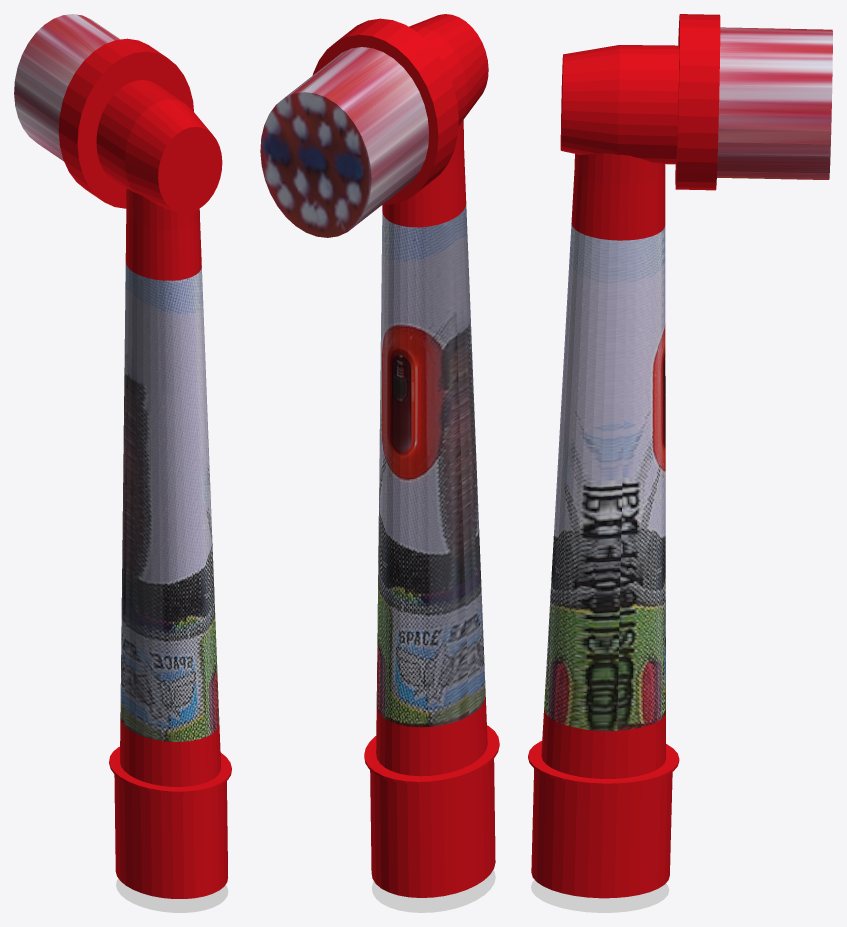
File: oral-b-vitality-red-head.glb
The picture shows the model from 3 angles, left to right: view 1: azimuth 30°, elevation 25°; view 2: azimuth 150°, elevation 25°; view 3: azimuth 270°, elevation 25°; orthographic projection. The views are drawn at different scales.
Parts seen in each view (by area): view 1: Circle.032_2; view 2: Circle.032_2; view 3: Circle.032_2.
Boxes of the visible parts, x1,y1,x2,y2 form: Circle.032_2: [14, 14, 231, 912]; Circle.032_2: [260, 14, 499, 912]; Circle.032_2: [528, 14, 832, 912].
Size of the model in its own units: 0.01 by 0.066 by 0.0209.
5 materials, 3 textured.
